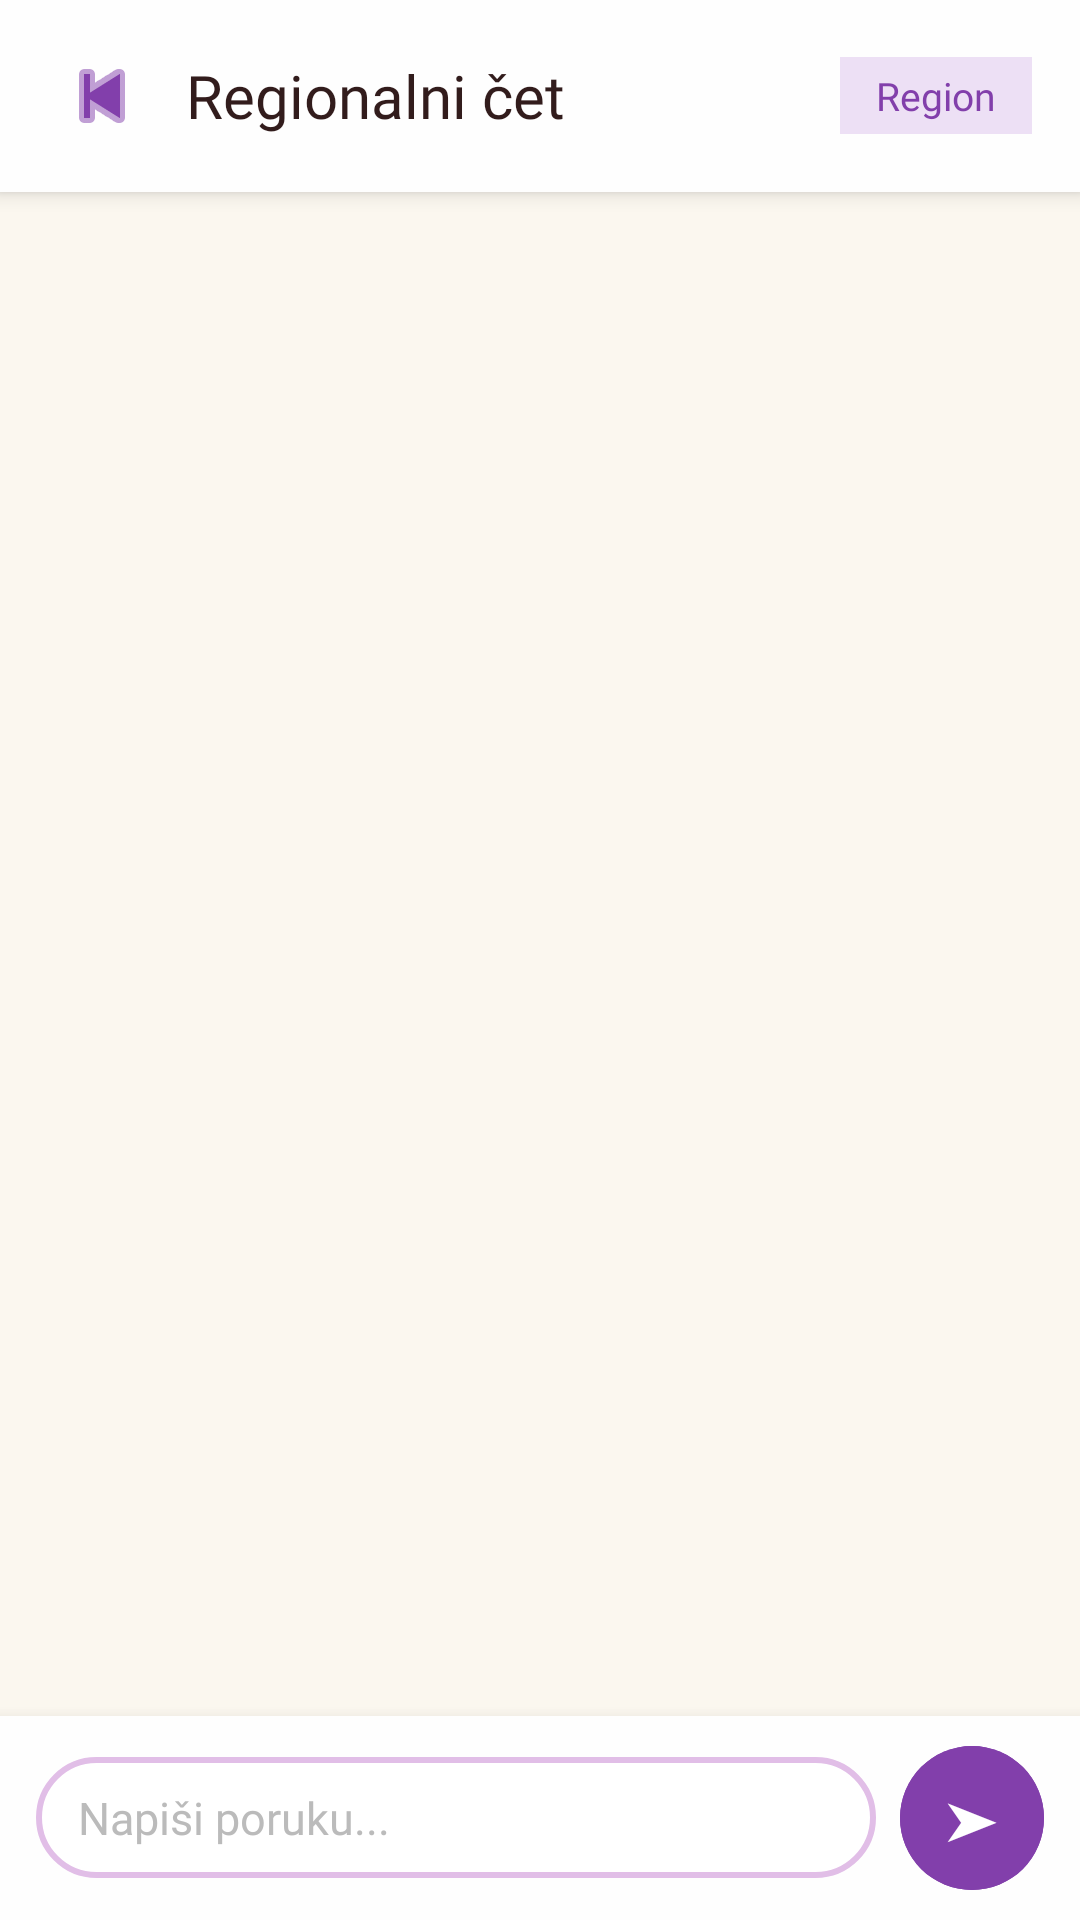

Screen size 1080×1920. Icon name, then its box in pixels as region(x1, y1, x2, y2):
previous: region(79, 69, 125, 123)
